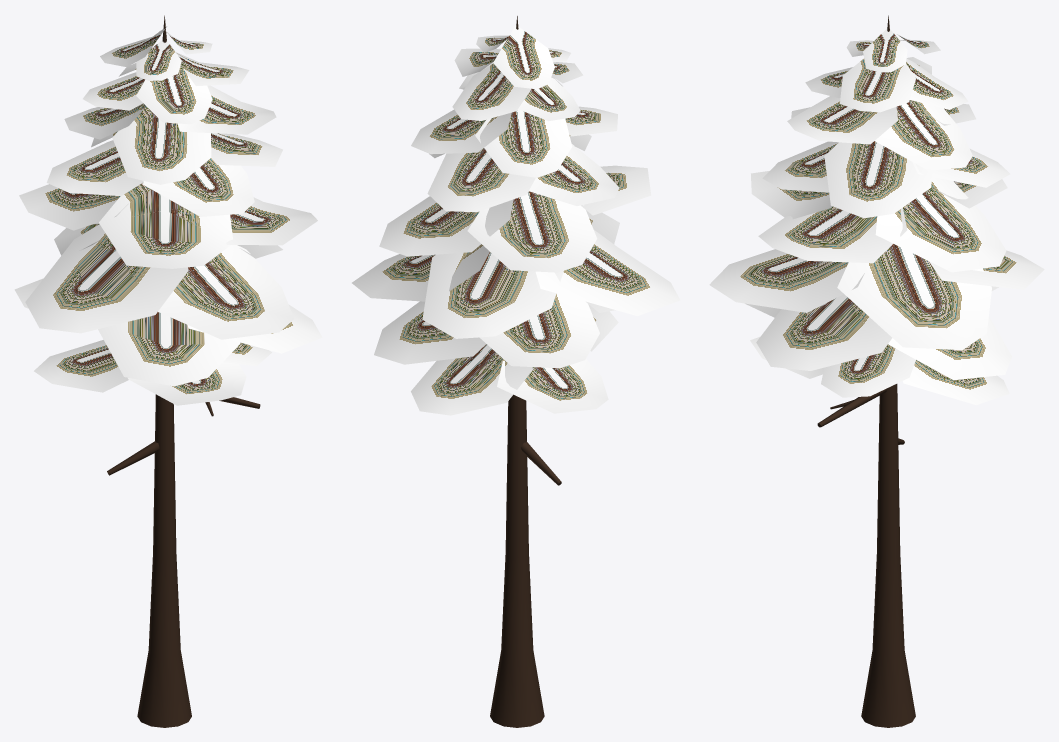
File: SM_FOL_Pine_Tree_02_A.glb
3 renders of one model, left to right at view 1: azimuth 30°, elevation 25°; view 2: azimuth 150°, elevation 25°; view 3: azimuth 270°, elevation 25°, orthographic.
Visible parts, largest first — view 1: SM_FOL_Pine_Tree_02_A; view 2: SM_FOL_Pine_Tree_02_A; view 3: SM_FOL_Pine_Tree_02_A.
Boxes of the visible parts, bbox=[...] form: SM_FOL_Pine_Tree_02_A: bbox=[14, 15, 322, 727]; SM_FOL_Pine_Tree_02_A: bbox=[352, 16, 680, 727]; SM_FOL_Pine_Tree_02_A: bbox=[709, 15, 1044, 727].
Bounding box in the file's own units: 3.58 × 8.81 × 3.82.
Materials: 2 (2 with a texture image).
